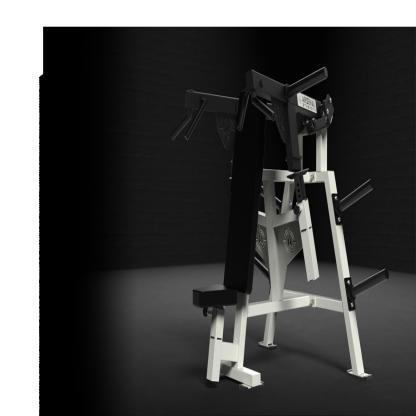shoulder press machine: (169, 69, 388, 391)
